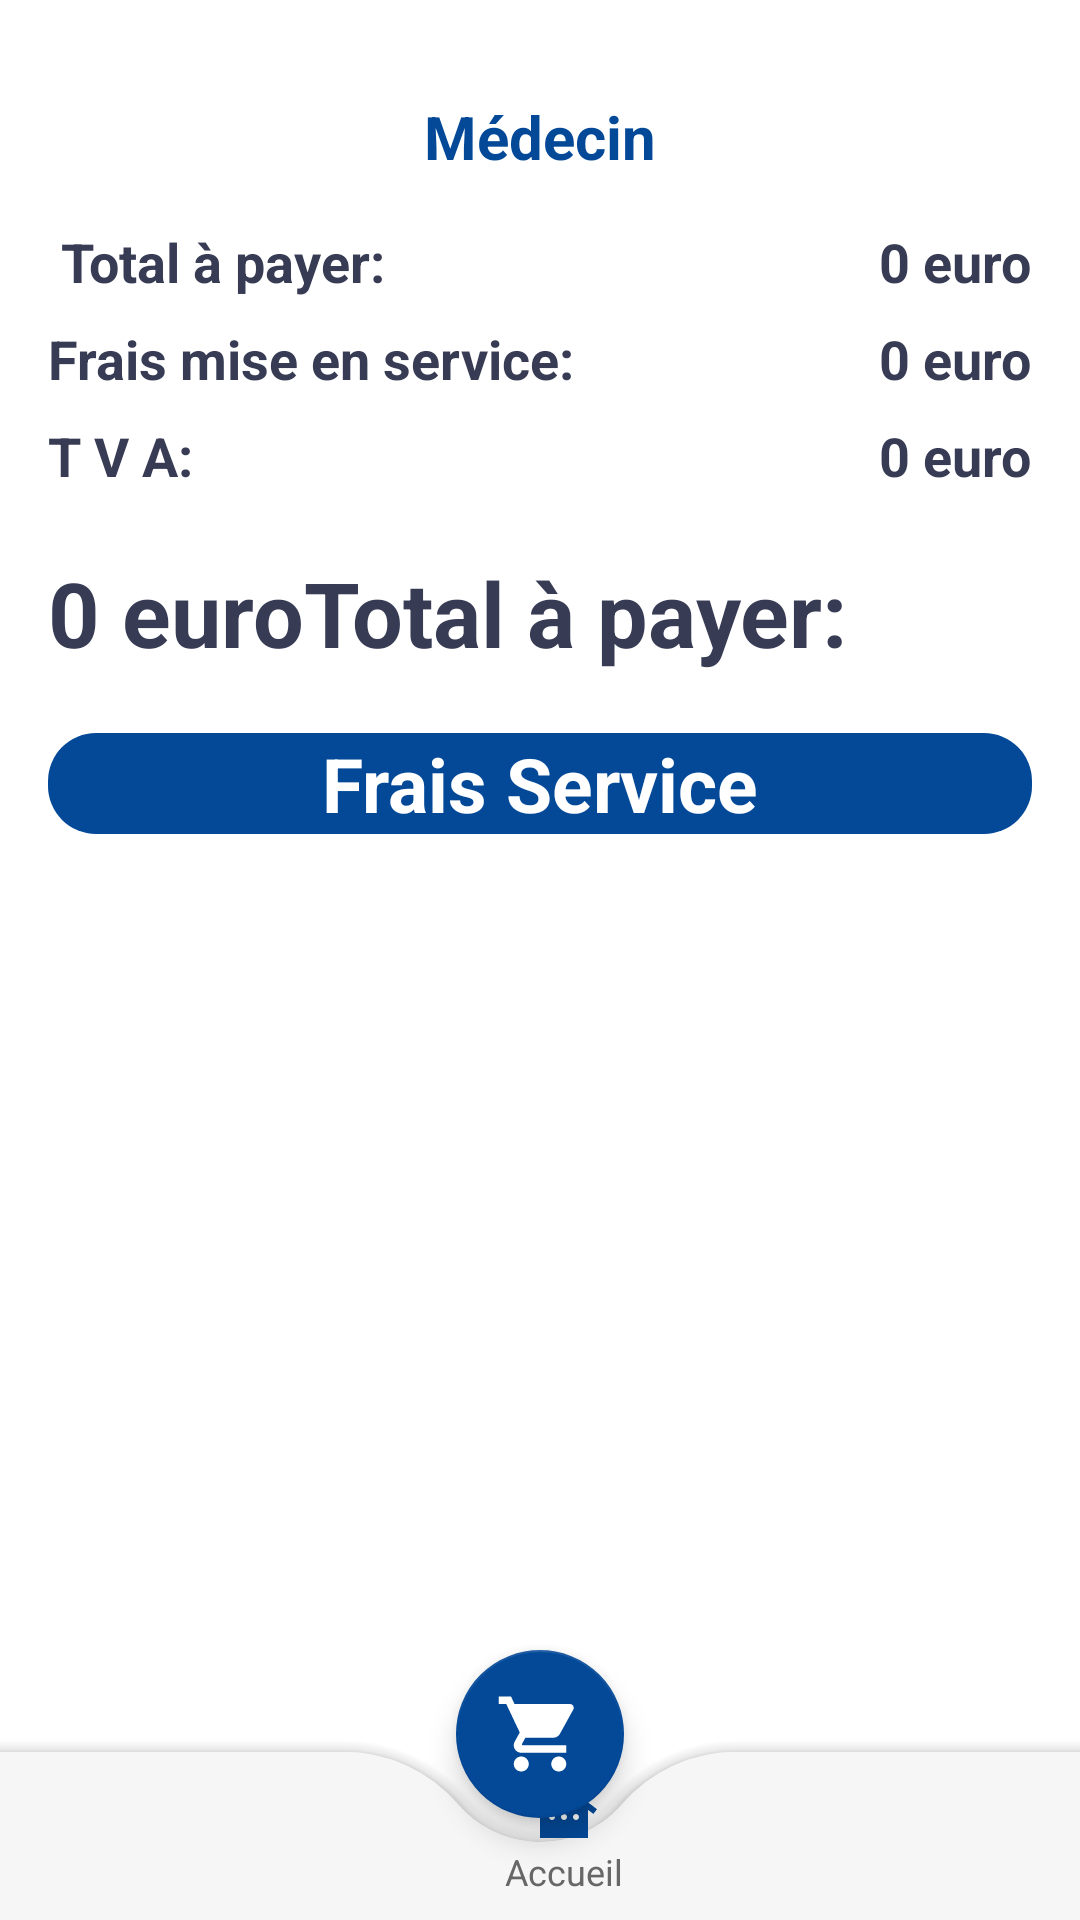

Named icons in this screenshot (1080x1920) and their bounding boxes, detection(x1, y1, x2, y2):
shopping cart: detection(456, 1668, 624, 1836)
